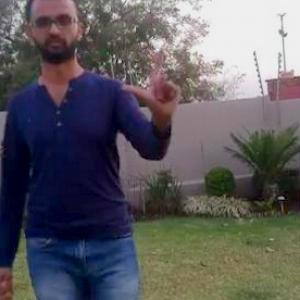land_hand: (114, 48, 198, 115)
